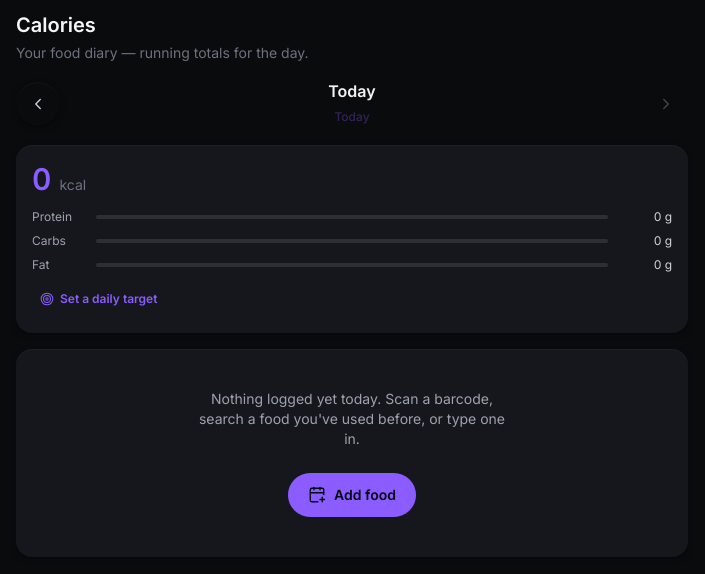
Scenario: CaloriesPanel › manual entry is reachable from the add-food chooser
The image size is (705, 574).
Click the button with test id "diary-empty-add". click: (352, 495)
box: x1=288 y1=473 x2=416 y2=517
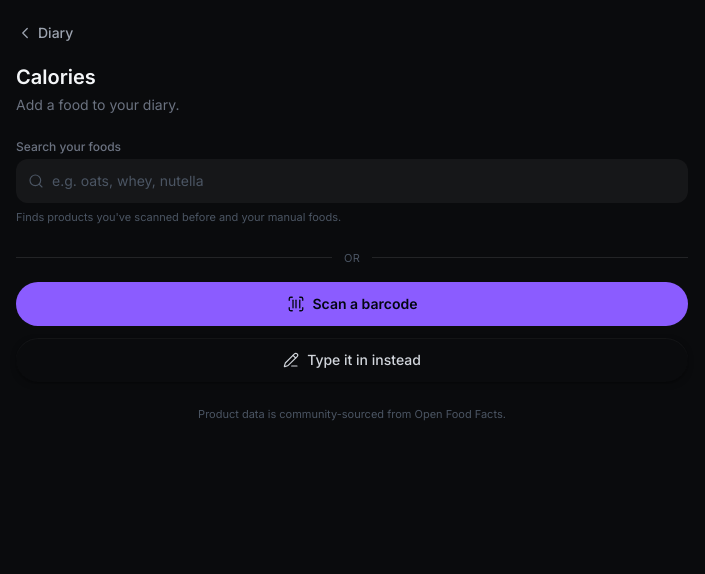
Click the button with test id "manual-entry-btn". click: (352, 360)
box: x1=16 y1=338 x2=688 y2=382
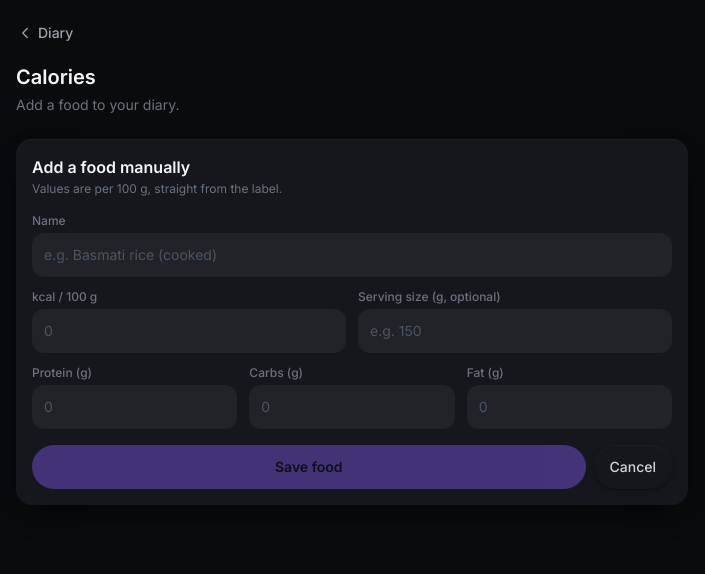
Now the form with test id "manual-food-form" is shown
